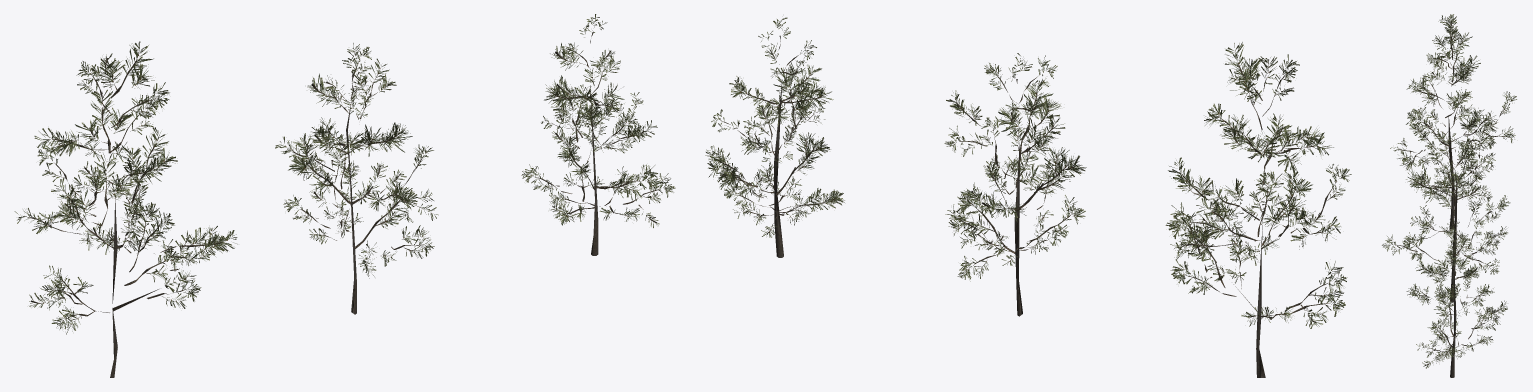
Rendered from pine-sapling-small-lod0.glb.
The picture shows the model from 3 angles, left to right: view 1: azimuth 30°, elevation 25°; view 2: azimuth 150°, elevation 25°; view 3: azimuth 270°, elevation 25°; orthographic projection. The views are drawn at different scales.
Parts seen in each view (by area): view 1: pine_sapling_small_a, pine_sapling_small_b, pine_sapling_small_c; view 2: pine_sapling_small_a, pine_sapling_small_b, pine_sapling_small_c; view 3: pine_sapling_small_a, pine_sapling_small_b, pine_sapling_small_c.
Boxes of the visible parts, box(x1,y1,x2,y2) form: pine_sapling_small_a: box(14, 41, 237, 377); pine_sapling_small_b: box(275, 43, 438, 314); pine_sapling_small_c: box(521, 14, 675, 255); pine_sapling_small_a: box(1165, 42, 1351, 377); pine_sapling_small_b: box(944, 53, 1086, 316); pine_sapling_small_c: box(705, 17, 844, 257); pine_sapling_small_a: box(1390, 14, 1516, 229); pine_sapling_small_b: box(1382, 133, 1510, 302); pine_sapling_small_c: box(1406, 222, 1507, 377).
Bounding box in the file's own units: 2.64 × 1.3 × 0.7679.
2 materials, 2 textured.
